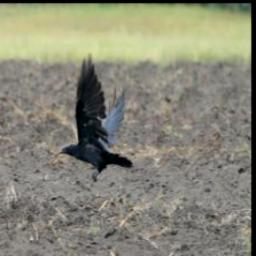Crow: (56, 50, 134, 184)
